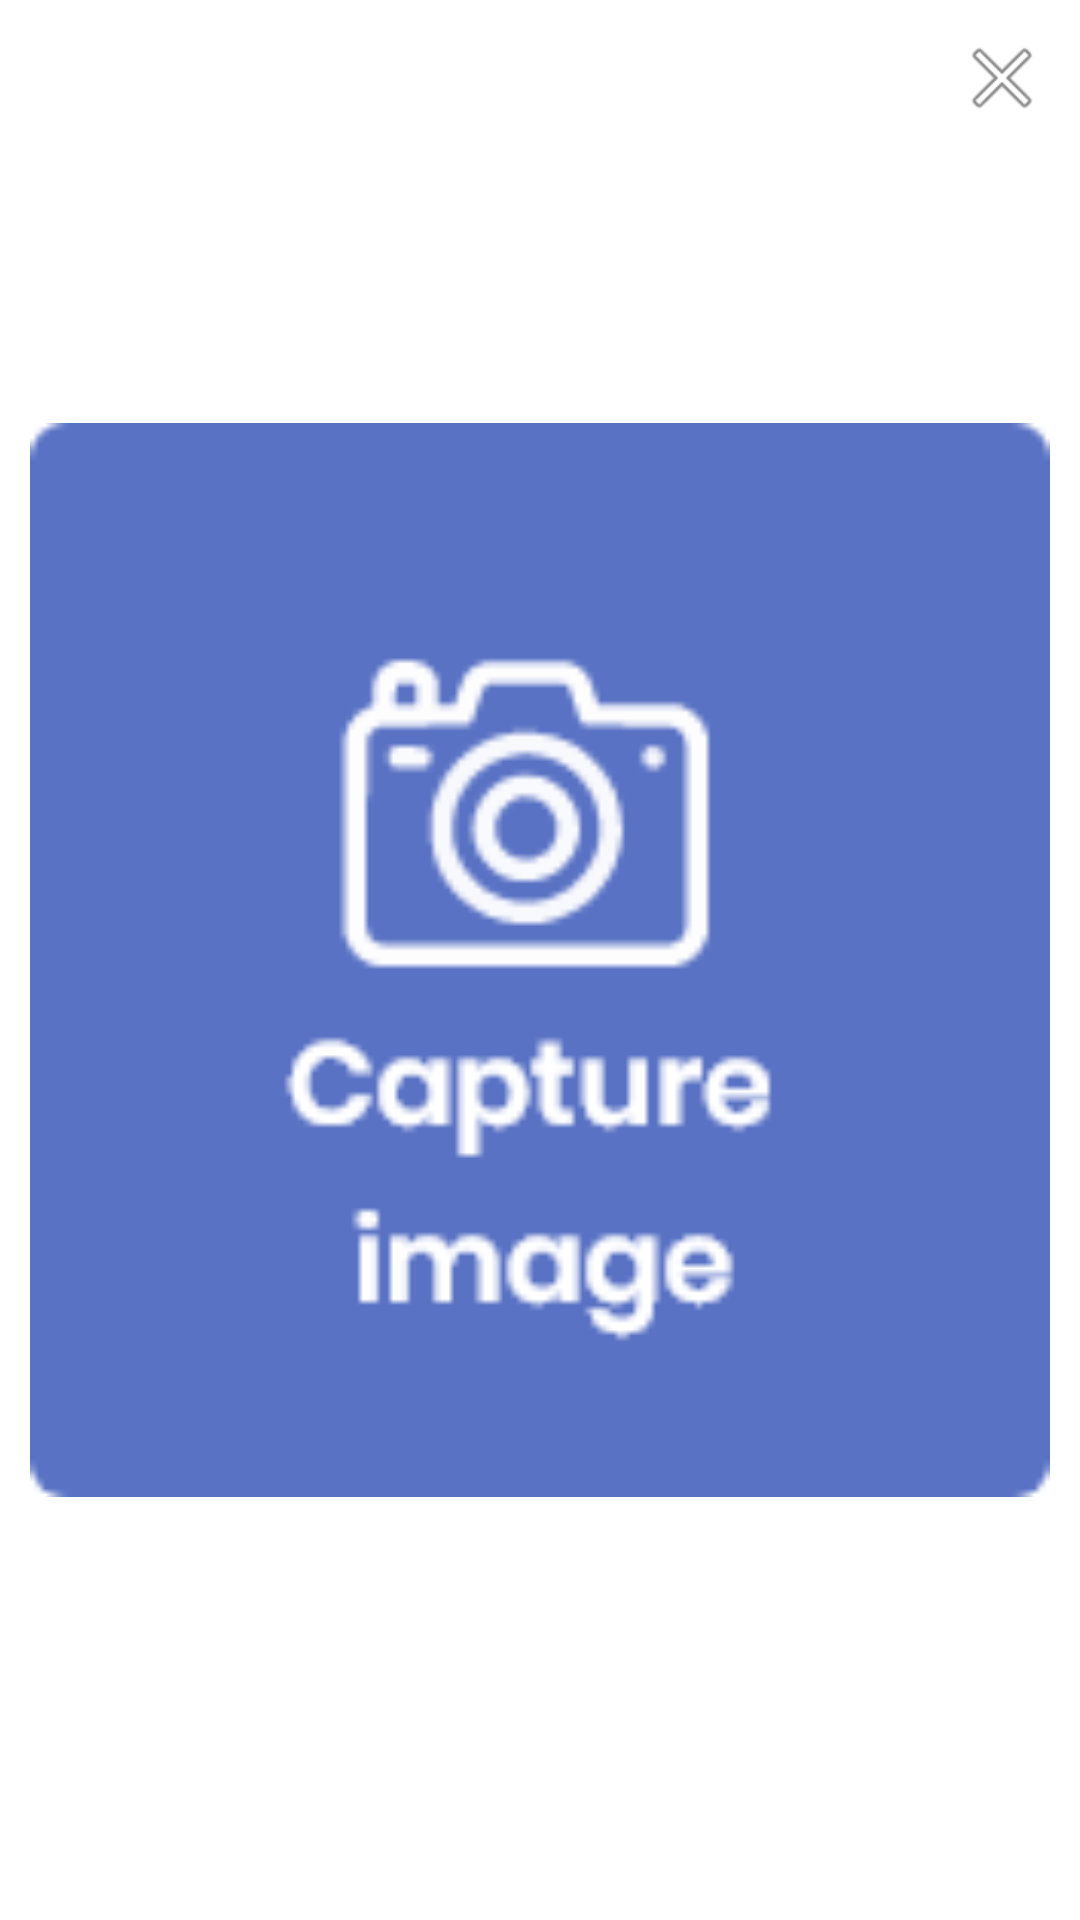

Named icons in this screenshot (1080*1920) and their centers, (x=x, y=y):
close clear cancel: (x=1002, y=78)
